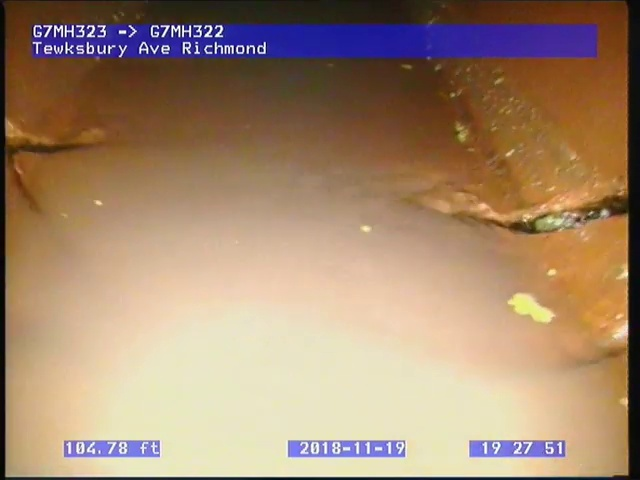crack: (6, 119, 110, 219), (449, 179, 627, 237)
